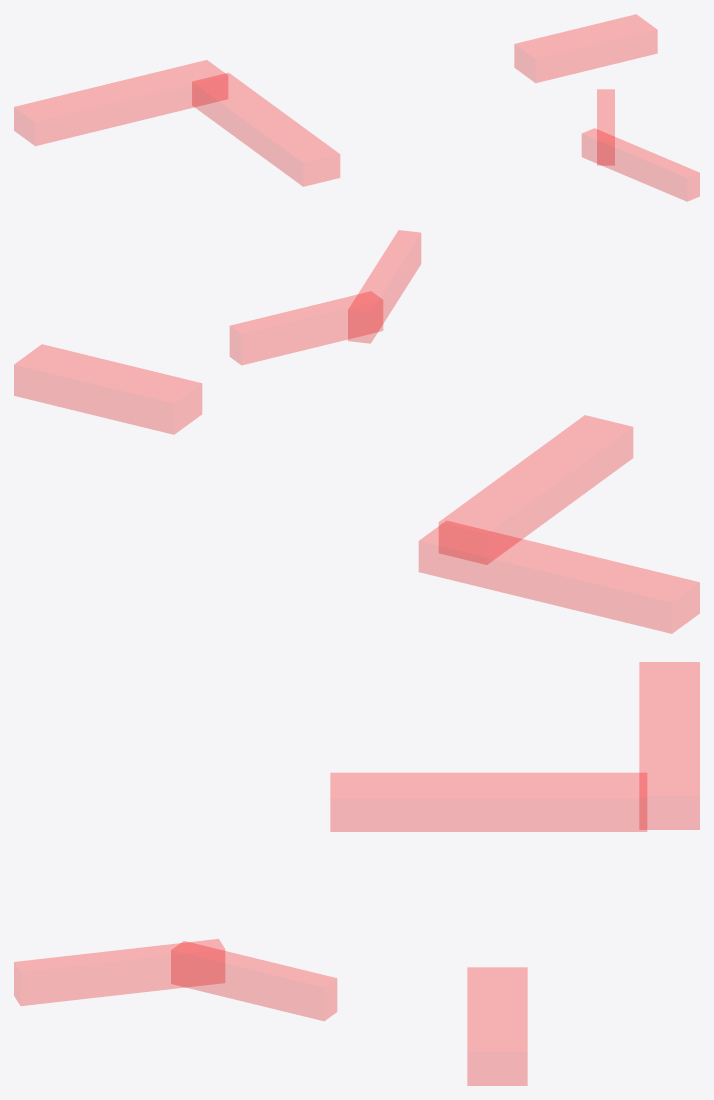
Rendered from s02a_td2-obstacles.glb.
3 views of the same model, one above another, from view 1: azimuth 30°, elevation 25°; view 2: azimuth 150°, elevation 25°; view 3: azimuth 270°, elevation 25° (orthographic). The views are drawn at different scales.
Visible parts, largest first — view 1: boulder-colonly (×5); view 2: boulder-colonly (×5); view 3: boulder-colonly (×5).
Part boxes in pixels (x1=…): boulder-colonly (×5): x1=14, y1=14, x2=699, y2=201; boulder-colonly (×5): x1=14, y1=230, x2=699, y2=633; boulder-colonly (×5): x1=14, y1=662, x2=699, y2=1085.
Size of the model in its own units: 39.59 by 1.6 by 29.44.
